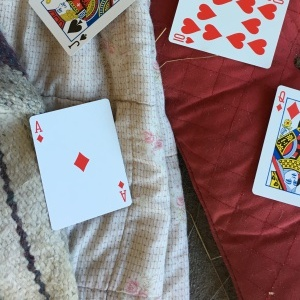card: (28, 98, 133, 230)
